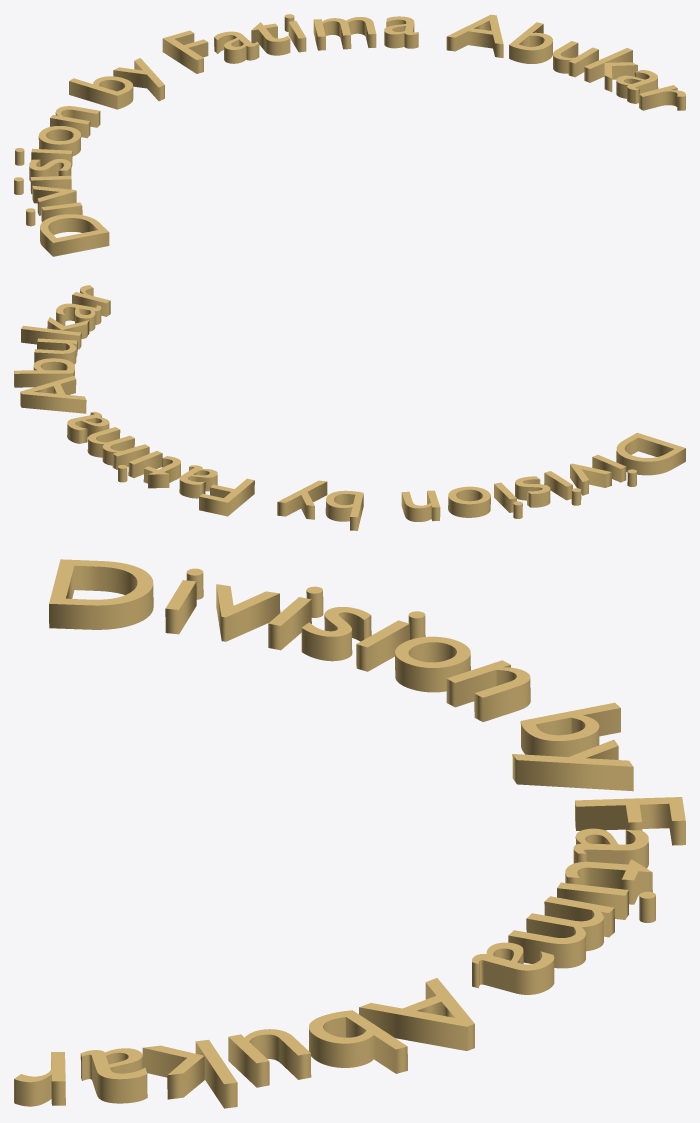
The picture shows the model from 3 angles, top to bottom: view 1: azimuth 30°, elevation 25°; view 2: azimuth 150°, elevation 25°; view 3: azimuth 270°, elevation 25°; orthographic projection. The views are drawn at different scales.
Visible parts, largest first — view 1: Mark6_Division; view 2: Mark6_Division; view 3: Mark6_Division.
Boxes of the visible parts, <box> form: Mark6_Division: <box>14,14,685,256</box>; Mark6_Division: <box>14,285,685,530</box>; Mark6_Division: <box>14,559,685,1108</box>.
Size of the model in its own units: 3.78 by 0.114 by 2.01.
